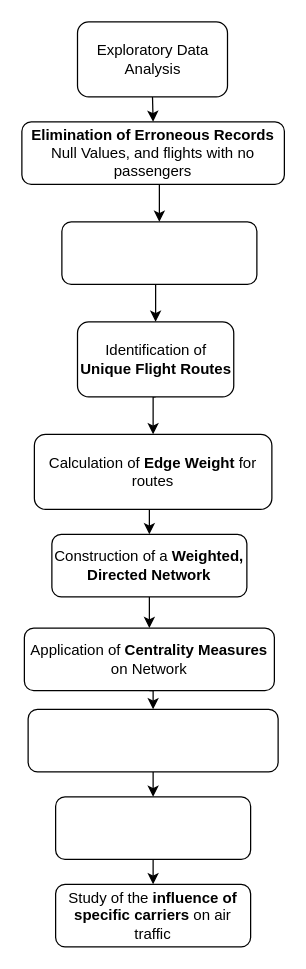
This 306x969 diagram has some shape labels left out. Each missing label, with the centre of its shape:
"Analysis of connectivity of hotspot airports" belongs at pixel 152 740.
"Analysis of Traffic on the basis of Passenger footfall" belongs at pixel 159 252.
"Identification of flights per carrier at each airport" belongs at pixel 152 827.
